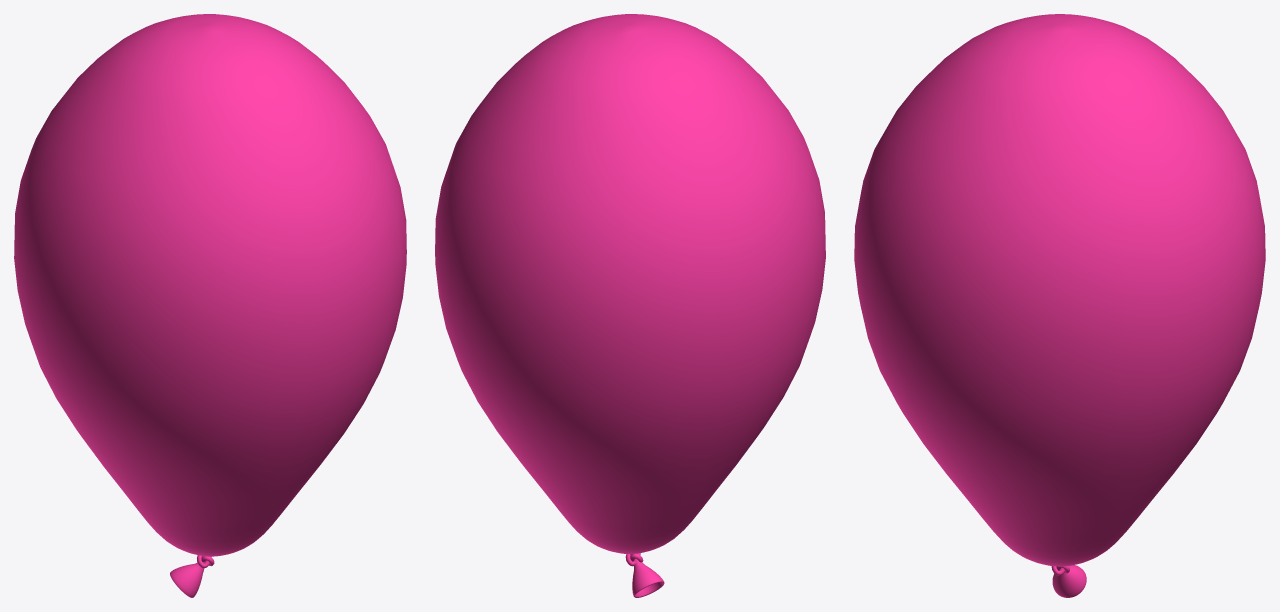
Rendered from Anagram Satin Satin Luxe Pastel Pink.glb.
3 renders of one model, left to right at view 1: azimuth 30°, elevation 25°; view 2: azimuth 150°, elevation 25°; view 3: azimuth 270°, elevation 25°, orthographic. The views are drawn at different scales.
Visible parts, largest first — view 1: Balloon Pink; view 2: Balloon Pink; view 3: Balloon Pink.
Boxes of the visible parts, x1=… form: Balloon Pink: x1=14, y1=14, x2=406, y2=597; Balloon Pink: x1=435, y1=14, x2=825, y2=597; Balloon Pink: x1=854, y1=14, x2=1265, y2=597.
Size of the model in its own units: 0.3 by 0.48 by 0.31.
